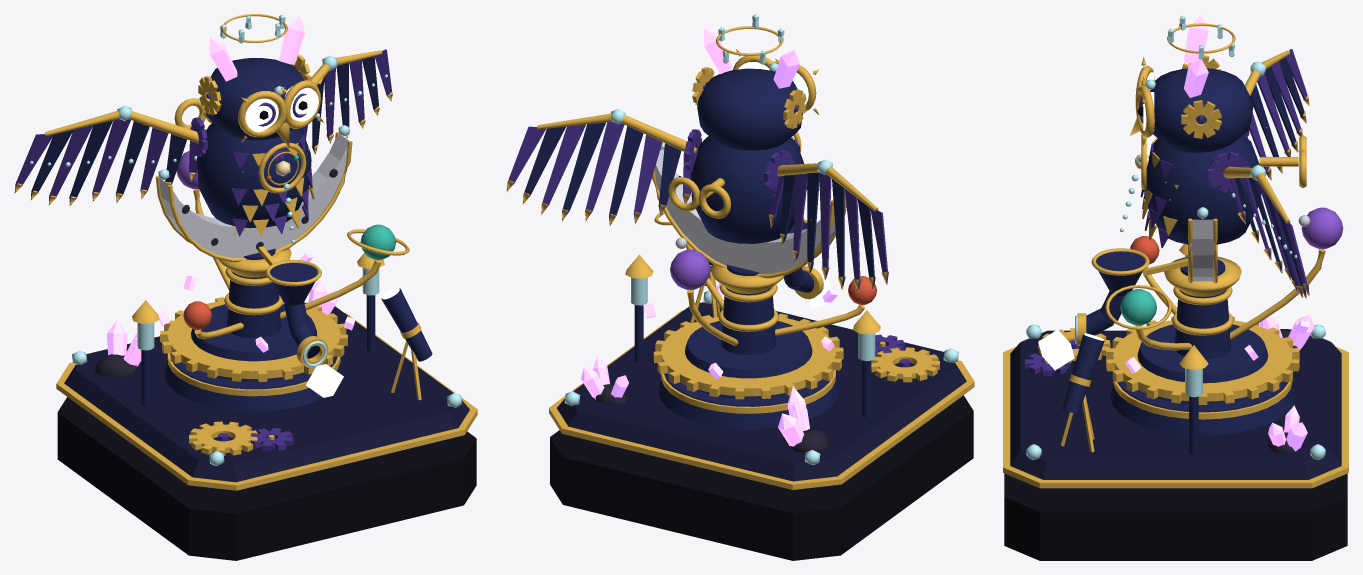
File: AstralOwlMine_Roblox.fbx
The picture shows the model from 3 angles, left to right: view 1: azimuth 30°, elevation 25°; view 2: azimuth 150°, elevation 25°; view 3: azimuth 270°, elevation 25°; orthographic projection. The views are drawn at different scales.
Visible parts, largest first — view 1: Black, NightMetal, GoldTrim, StarMarble, DuskFeathers, MoonSilver, StarglassCrystal, Starlight, LensGlow, MeteorRock, PlanetTeal, StarfeatherOre (+1 smaller); view 2: NightMetal, Black, GoldTrim, StarMarble, DuskFeathers, MoonSilver, StarglassCrystal, Starlight, PlanetPurple, MeteorRock, PlanetRed; view 3: NightMetal, GoldTrim, Black, StarMarble, DuskFeathers, StarglassCrystal, Starlight, MoonSilver, PlanetPurple, PlanetTeal, StarfeatherOre, PlanetRed.
Boxes of the visible parts, x1,y1,x2,y2 form: Black: [57, 397, 476, 560]; NightMetal: [31, 56, 432, 411]; GoldTrim: [14, 14, 477, 490]; StarMarble: [64, 302, 469, 482]; DuskFeathers: [15, 49, 392, 451]; MoonSilver: [159, 134, 348, 257]; StarglassCrystal: [107, 16, 355, 366]; Starlight: [30, 14, 462, 465]; LensGlow: [245, 86, 399, 299]; MeteorRock: [95, 168, 337, 377]; PlanetTeal: [294, 155, 396, 260]; StarfeatherOre: [306, 364, 343, 397]; NightMetal: [523, 68, 874, 429]; Black: [550, 395, 973, 560]; GoldTrim: [506, 26, 974, 489]; StarMarble: [557, 302, 966, 481]; DuskFeathers: [507, 84, 910, 367]; MoonSilver: [654, 149, 835, 273]; StarglassCrystal: [581, 28, 837, 446]; Starlight: [564, 14, 958, 464]; PlanetPurple: [670, 249, 710, 290]; MeteorRock: [592, 175, 829, 452]; PlanetRed: [848, 276, 876, 305]; NightMetal: [1062, 57, 1306, 454]; GoldTrim: [1003, 23, 1348, 488]; Black: [1004, 473, 1347, 560]; StarMarble: [1010, 330, 1341, 479]; DuskFeathers: [1025, 49, 1309, 376]; StarglassCrystal: [1105, 14, 1314, 451]; Starlight: [1026, 15, 1325, 459]; MoonSilver: [1191, 215, 1310, 281]; PlanetPurple: [1301, 207, 1343, 249]; PlanetTeal: [1120, 156, 1156, 325]; StarfeatherOre: [1038, 329, 1074, 370]; PlanetRed: [1130, 236, 1159, 264].
Size of the model in its own units: 1507 by 1715 by 1158.
